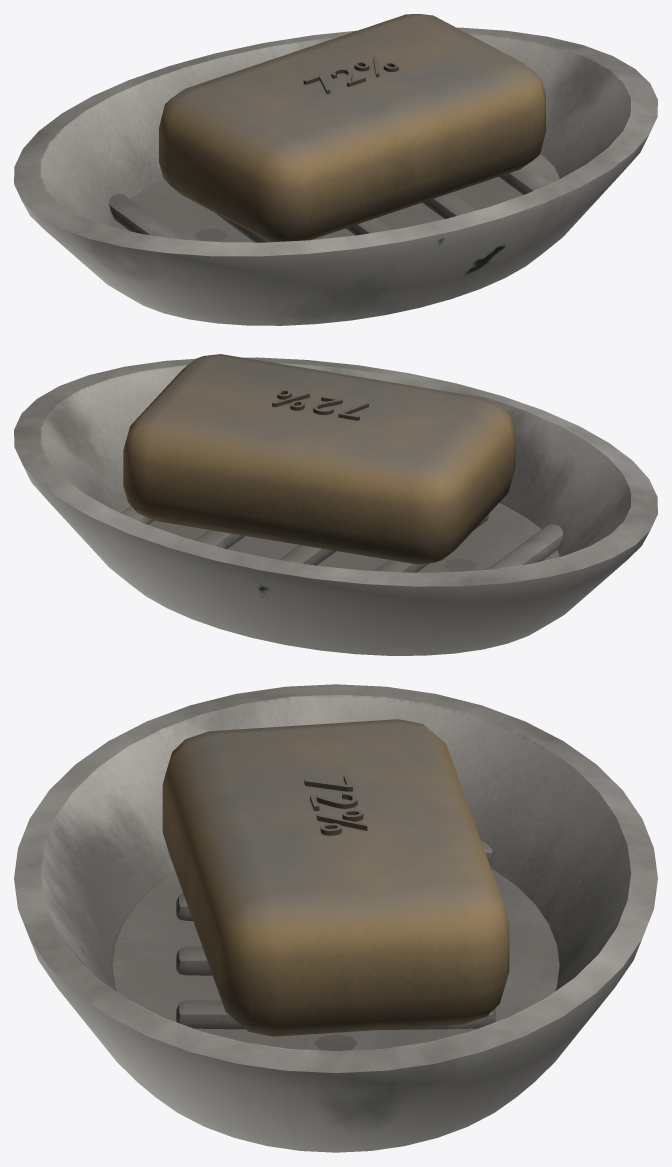
Rendered from SM_SoapDish.fbx.
3 views of the same model, one above another, from view 1: azimuth 30°, elevation 25°; view 2: azimuth 150°, elevation 25°; view 3: azimuth 270°, elevation 25° (orthographic). The views are drawn at different scales.
Visible parts, largest first — view 1: SM_SoapDish; view 2: SM_SoapDish; view 3: SM_SoapDish.
Part boxes in pixels (<box>): SM_SoapDish: <box>14,14,657,325</box>; SM_SoapDish: <box>14,354,657,655</box>; SM_SoapDish: <box>14,684,657,1152</box>.
Size of the model in its own units: 0.144 by 0.0389 by 0.1008.
1 material, 1 textured.
